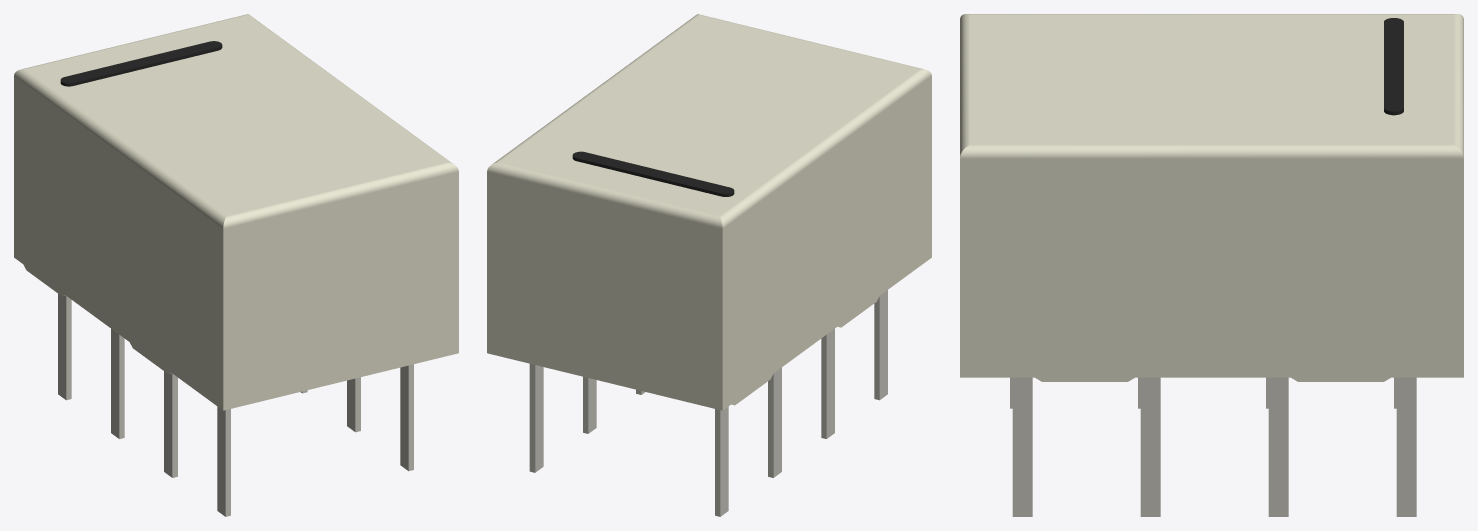
Rendered from kc-relay_dpdt_omron_g6k-2p.glb.
3 renders of one model, left to right at view 1: azimuth 30°, elevation 25°; view 2: azimuth 150°, elevation 25°; view 3: azimuth 270°, elevation 25°, orthographic. The views are drawn at different scales.
Visible parts, largest first — view 1: 0.75_0.75_0.6666666666666666_0, 0.6666666666666666_0.6666666666666666_0.5833333333333334_0.8, 0_0_0_0; view 2: 0.75_0.75_0.6666666666666666_0, 0.6666666666666666_0.6666666666666666_0.5833333333333334_0.8, 0_0_0_0; view 3: 0.75_0.75_0.6666666666666666_0, 0.6666666666666666_0.6666666666666666_0.5833333333333334_0.8, 0_0_0_0.
Part boxes in pixels (left/top/right/bottom): 0.75_0.75_0.6666666666666666_0: left=14, top=14, right=458, bottom=410; 0.6666666666666666_0.6666666666666666_0.5833333333333334_0.8: left=58, top=294, right=413, bottom=516; 0_0_0_0: left=60, top=41, right=222, bottom=86; 0.75_0.75_0.6666666666666666_0: left=487, top=14, right=931, bottom=410; 0.6666666666666666_0.6666666666666666_0.5833333333333334_0.8: left=529, top=290, right=887, bottom=516; 0_0_0_0: left=572, top=151, right=734, bottom=196; 0.75_0.75_0.6666666666666666_0: left=960, top=14, right=1463, bottom=381; 0.6666666666666666_0.6666666666666666_0.5833333333333334_0.8: left=1010, top=377, right=1416, bottom=516; 0_0_0_0: left=1384, top=18, right=1403, bottom=115.
Bounding box in the file's own units: 0.65 × 0.843 × 1.
